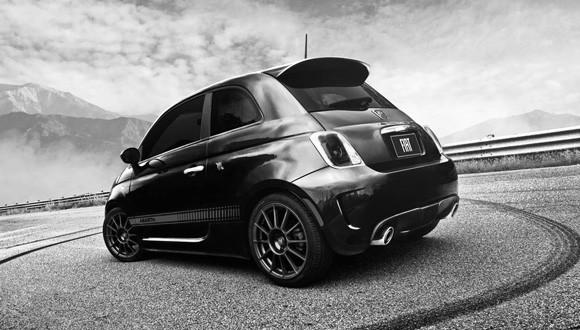car: (102, 58, 459, 287)
